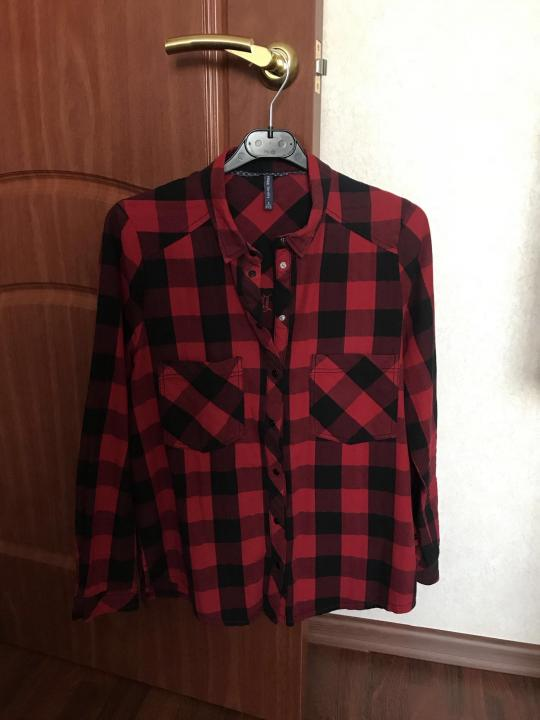squared: (67, 139, 451, 636)
